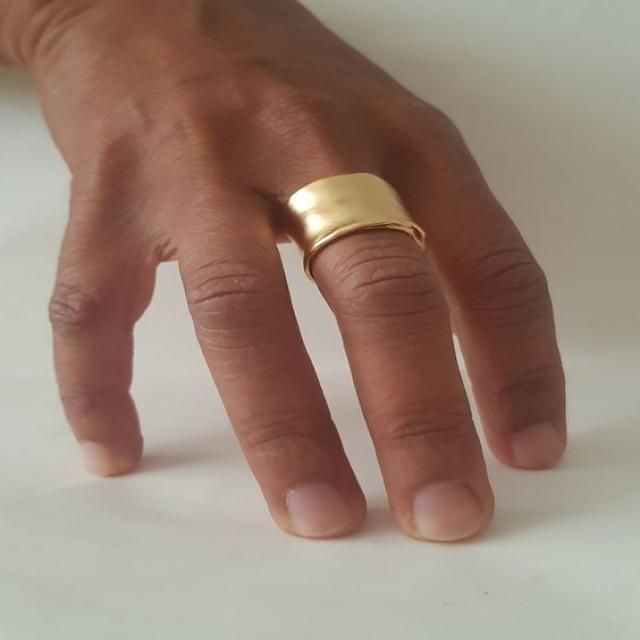Fingernail: (412, 482, 483, 540), (286, 484, 350, 536), (512, 424, 562, 467), (81, 443, 112, 475)
